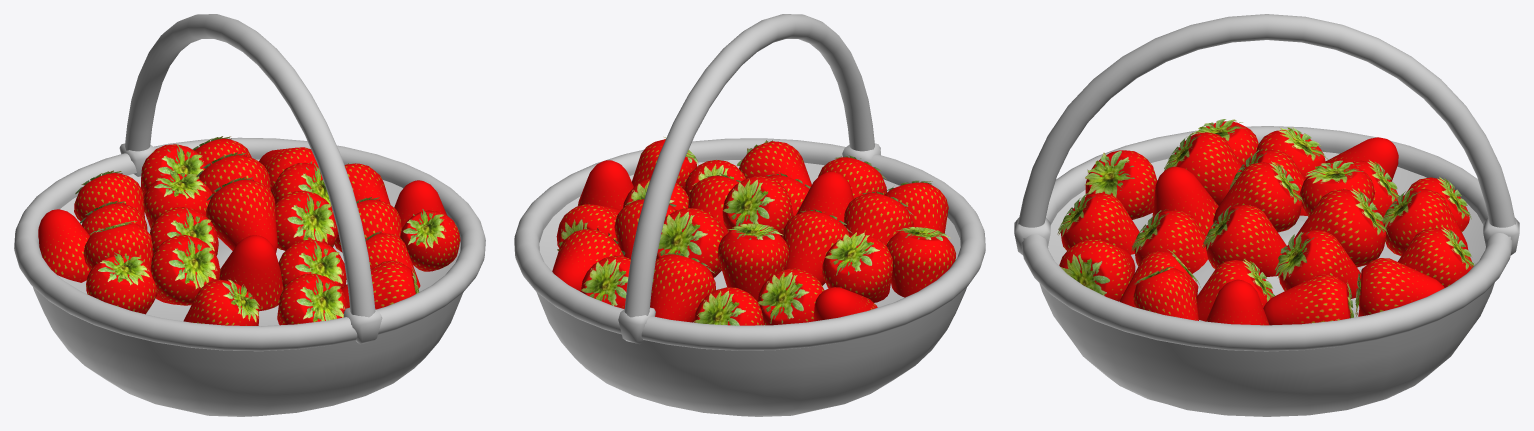
Rendered from Basket.fbx.
3 views of the same model, side by side, from view 1: azimuth 30°, elevation 25°; view 2: azimuth 150°, elevation 25°; view 3: azimuth 270°, elevation 25° (orthographic). The views are drawn at different scales.
Visible parts, largest first — view 1: scenestrw; view 2: scenestrw; view 3: scenestrw.
Boxes of the visible parts, <box> form: scenestrw: <box>14,14,485,416</box>; scenestrw: <box>514,14,985,416</box>; scenestrw: <box>1014,14,1519,416</box>.
Bounding box in the file's own units: 1773 × 1385 × 1816.
